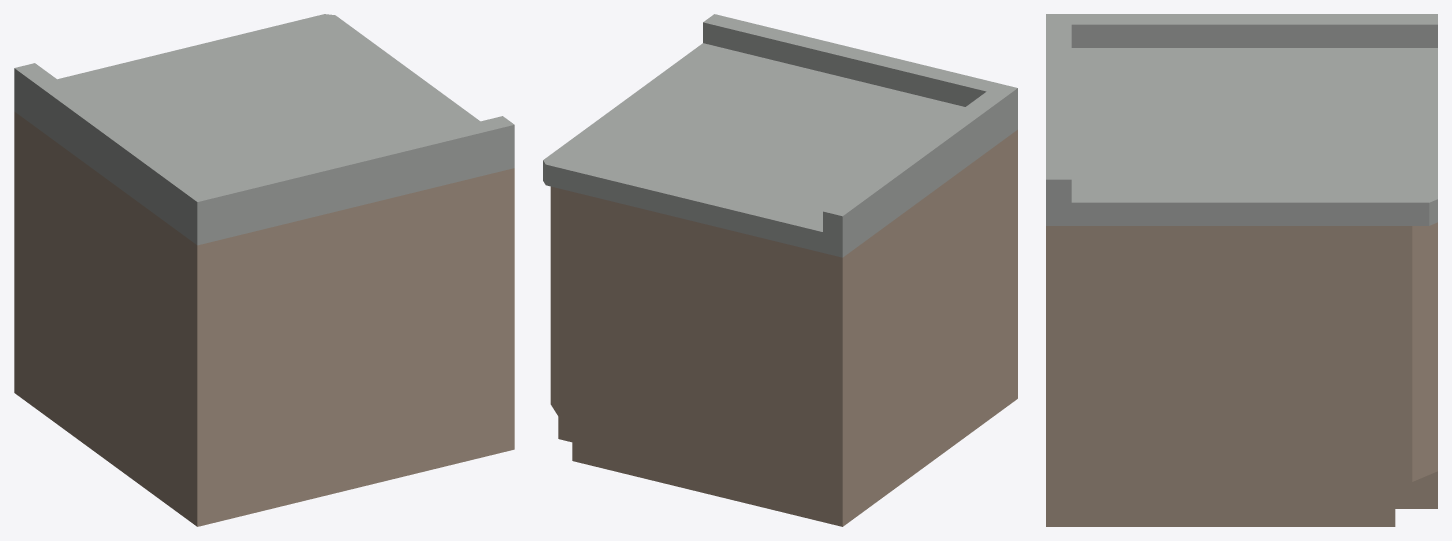
The model's file is kitchen_cabinet_corner_inner.glb.
3 views of the same model, side by side, from view 1: azimuth 30°, elevation 25°; view 2: azimuth 150°, elevation 25°; view 3: azimuth 270°, elevation 25° (orthographic). The views are drawn at different scales.
Parts seen in each view (by area): view 1: kitchen_cabinet_corner_inner; view 2: kitchen_cabinet_corner_inner; view 3: kitchen_cabinet_corner_inner.
Part boxes in pixels (x1=…): kitchen_cabinet_corner_inner: x1=14, y1=14, x2=514, y2=526; kitchen_cabinet_corner_inner: x1=543, y1=14, x2=1017, y2=526; kitchen_cabinet_corner_inner: x1=1046, y1=14, x2=1437, y2=526.
Bounding box in the file's own units: 0.92 × 0.9 × 0.92.
